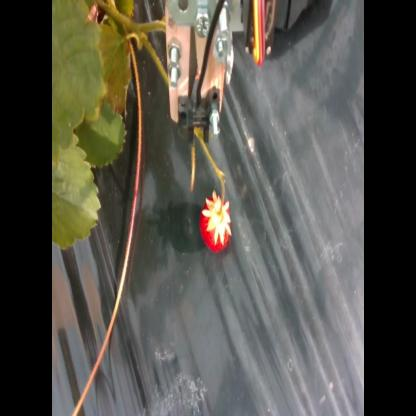ripe: (199, 191, 234, 256)
